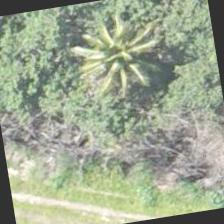Kelapa_Sawit: (66, 15, 168, 118)
